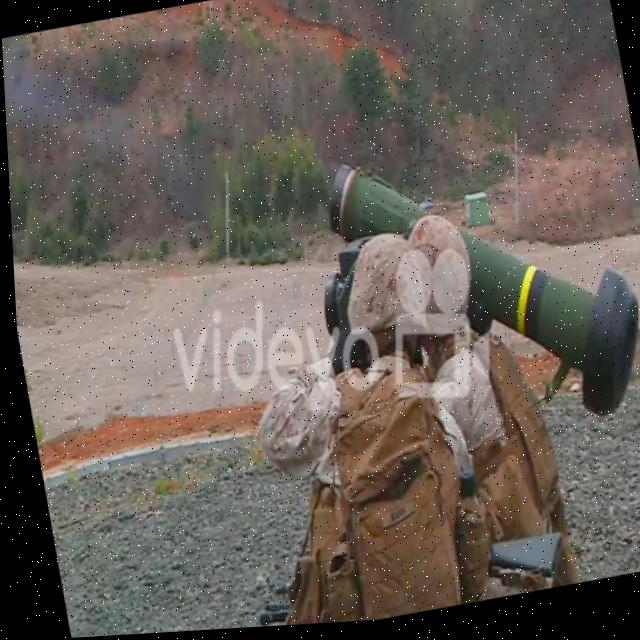rocket: (288, 120, 640, 474)
